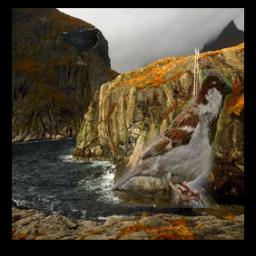Crow: (63, 29, 99, 66)
Sparrow: (111, 69, 232, 208)
